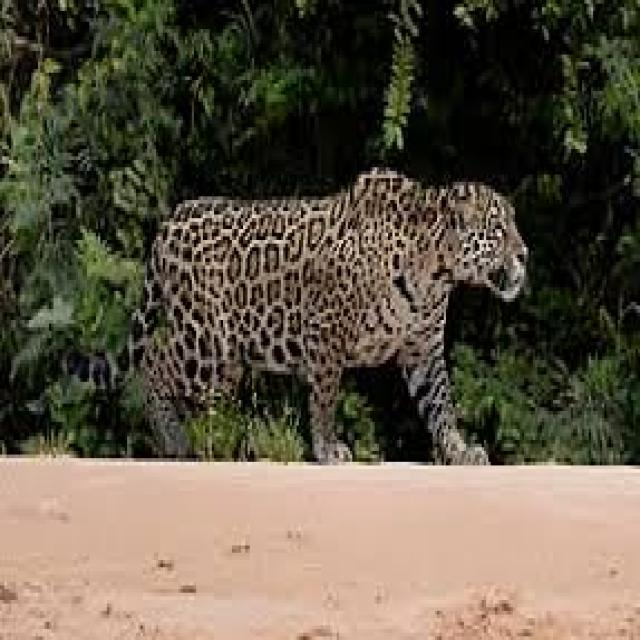Jaguar: (102, 164, 530, 484)
